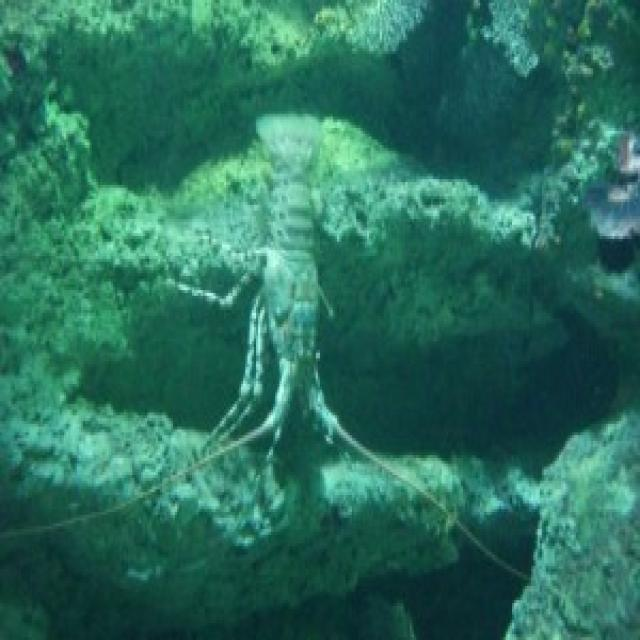lobsters: (112, 76, 483, 640)
